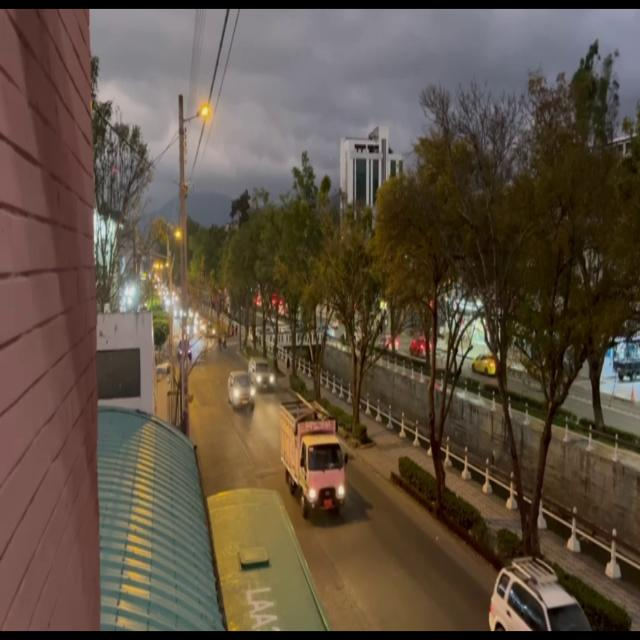CMT: (250, 358, 274, 392)
SUV: (488, 560, 591, 634), (230, 373, 255, 412)
TRUCK: (282, 403, 348, 513)
